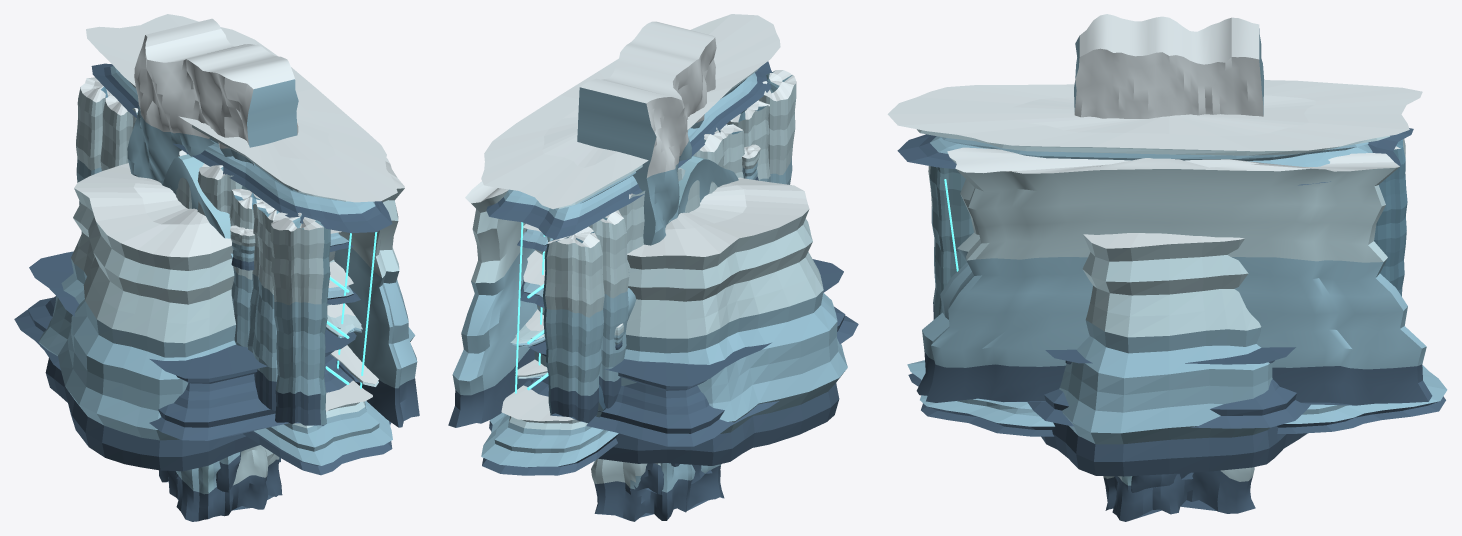
File: glasswake-environment-v5.glb
3 renders of one model, left to right at view 1: azimuth 30°, elevation 25°; view 2: azimuth 150°, elevation 25°; view 3: azimuth 270°, elevation 25°, orthographic. The views are drawn at different scales.
Visible parts, largest first — view 1: far_fragment, calving_roof, crevice_wall, basal_strata, calving_chunk_08, calving_back, calving_floor, cliff_2, calving_chunk_07, calving_chunk_00, calving_chunk_06, recess_wall (+7 smaller); view 2: far_fragment, calving_roof, crevice_wall, calving_back, basal_strata, calving_chunk_00, calving_floor, cliff_2, calving_chunk_01, calving_chunk_08, recess_wall, calving_chunk_07 (+8 smaller); view 3: calving_back, far_fragment, calving_roof, crevice_wall, calving_floor, cliff_2, basal_strata, calving_chunk_08, calving_chunk_00, cliff_0.
Boxes of the visible parts, x1=… form: far_fragment: x1=39, y1=163, x2=415, y2=471; calving_roof: x1=86, y1=14, x2=397, y2=233; crevice_wall: x1=127, y1=18, x2=298, y2=190; basal_strata: x1=14, y1=251, x2=356, y2=440; calving_chunk_08: x1=270, y1=212, x2=330, y2=425; calving_back: x1=334, y1=158, x2=419, y2=427; calving_floor: x1=243, y1=380, x2=392, y2=475; cliff_2: x1=159, y1=445, x2=282, y2=521; calving_chunk_07: x1=247, y1=201, x2=279, y2=410; calving_chunk_00: x1=76, y1=77, x2=110, y2=233; calving_chunk_06: x1=229, y1=188, x2=264, y2=347; recess_wall: x1=159, y1=154, x2=232, y2=259; far_fragment: x1=534, y1=177, x2=847, y2=465; calving_roof: x1=481, y1=14, x2=780, y2=241; crevice_wall: x1=577, y1=21, x2=716, y2=245; calving_back: x1=448, y1=181, x2=537, y2=427; basal_strata: x1=523, y1=259, x2=858, y2=446; calving_chunk_00: x1=543, y1=226, x2=604, y2=422; calving_floor: x1=481, y1=385, x2=618, y2=475; cliff_2: x1=591, y1=458, x2=724, y2=521; calving_chunk_01: x1=589, y1=210, x2=629, y2=408; calving_chunk_08: x1=758, y1=70, x2=796, y2=184; recess_wall: x1=596, y1=155, x2=738, y2=417; calving_chunk_07: x1=727, y1=100, x2=770, y2=182; calving_back: x1=916, y1=147, x2=1432, y2=405; far_fragment: x1=1041, y1=233, x2=1307, y2=476; calving_roof: x1=887, y1=80, x2=1422, y2=185; crevice_wall: x1=1074, y1=14, x2=1264, y2=118; calving_floor: x1=907, y1=360, x2=1447, y2=436; cliff_2: x1=1103, y1=467, x2=1255, y2=521; basal_strata: x1=1027, y1=347, x2=1310, y2=428; calving_chunk_08: x1=928, y1=166, x2=973, y2=319; calving_chunk_00: x1=1374, y1=139, x2=1407, y2=296; cliff_0: x1=1131, y1=472, x2=1193, y2=492.
Size of the model in its own units: 360 by 478 by 505.
